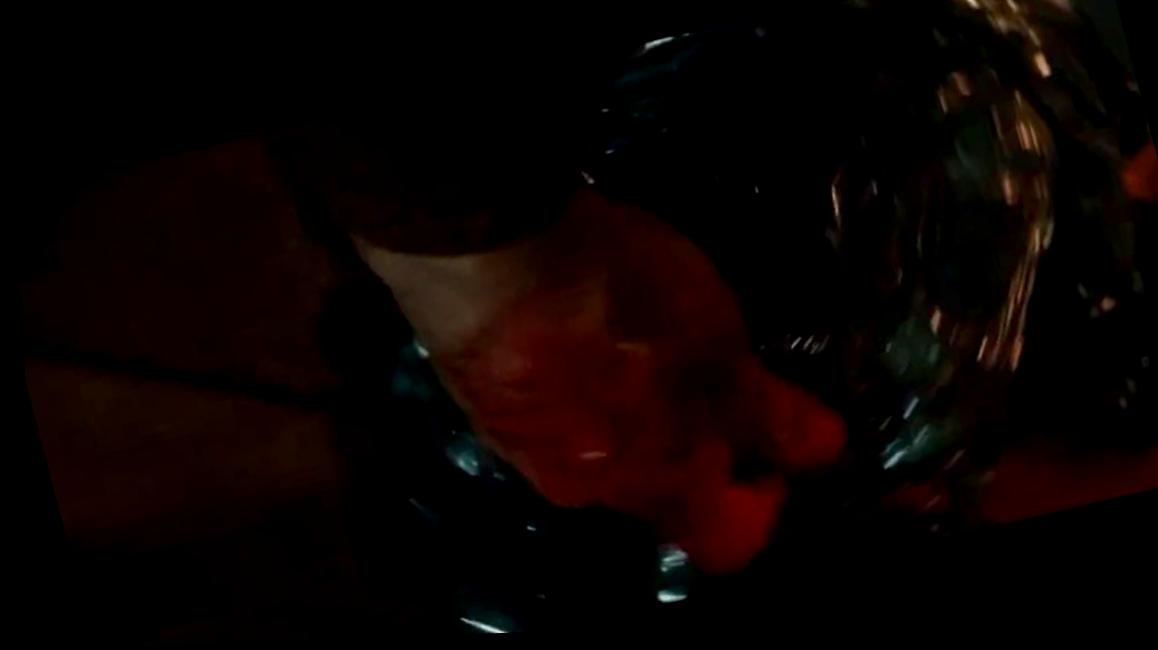Fire: (425, 211, 840, 577)
